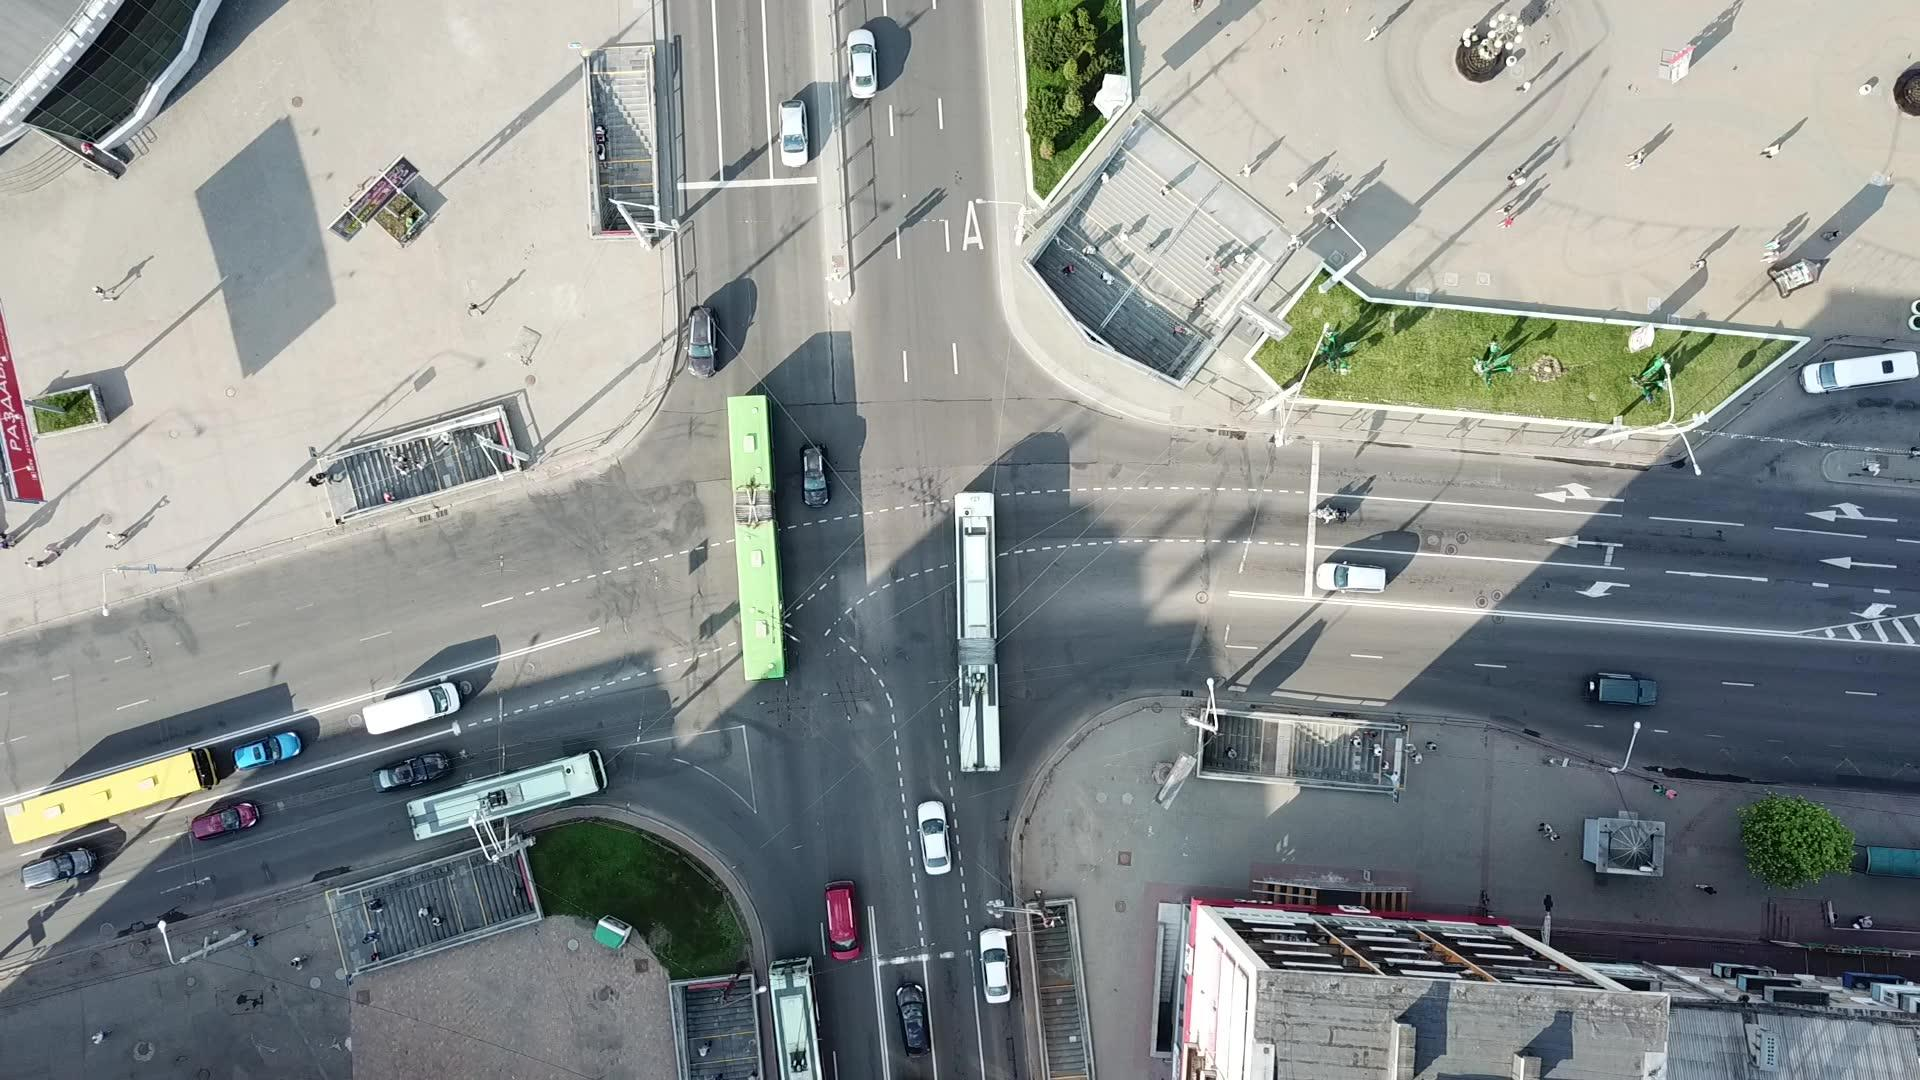car: (819, 878, 862, 964), (22, 847, 90, 891), (377, 750, 454, 789), (893, 981, 931, 1058), (229, 728, 303, 767), (978, 926, 1014, 1007), (915, 799, 953, 874), (1584, 674, 1658, 712), (190, 800, 258, 839), (844, 25, 877, 100), (1317, 559, 1386, 595), (684, 305, 717, 377), (775, 98, 808, 166), (800, 440, 831, 510)
